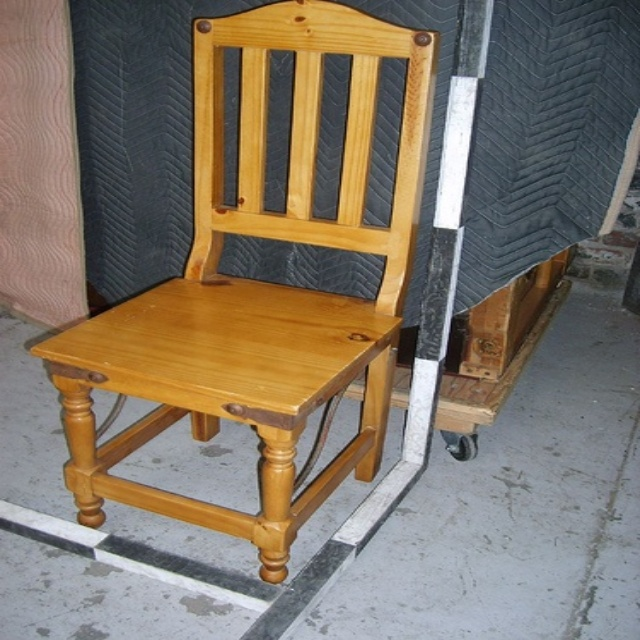obstacle: (32, 0, 437, 581)
